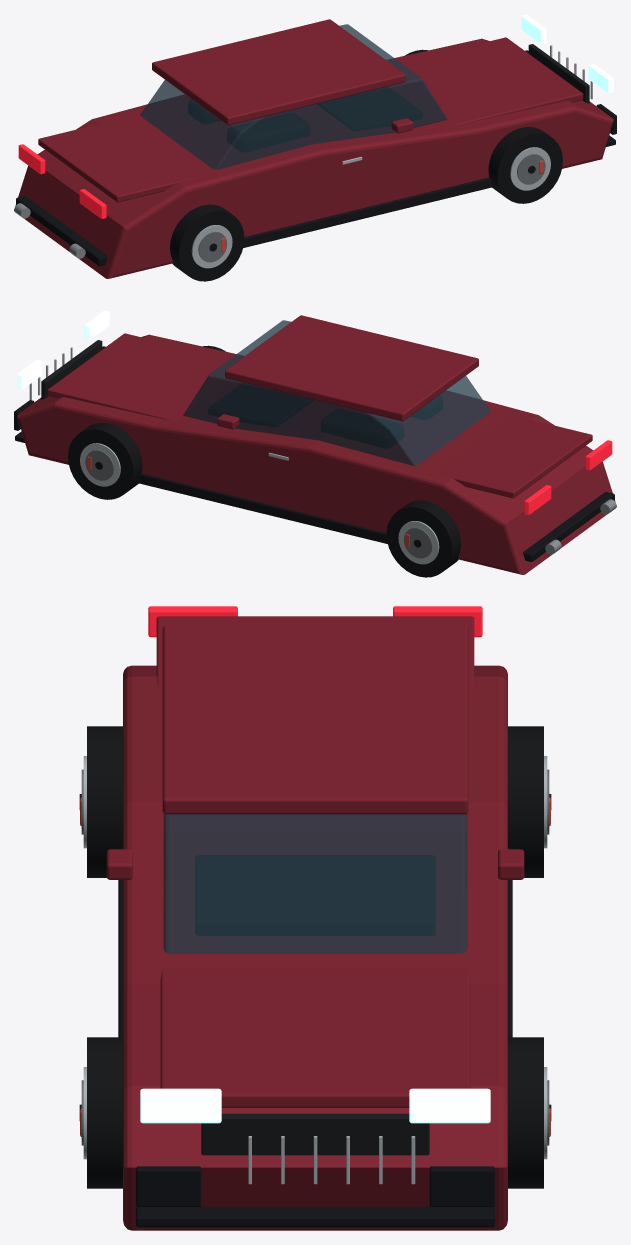
Rendered from rr_phantom_coupe.glb.
3 views of the same model, one above another, from view 1: azimuth 30°, elevation 25°; view 2: azimuth 150°, elevation 25°; view 3: azimuth 270°, elevation 25° (orthographic). The views are drawn at different scales.
Parts seen in each view (by area): view 1: sculpted_body, roof, glasshouse, hood_center, rear_deck, front_right_wheel_tire, rear_right_wheel_tire, side_skirt_1, dashboard, seat_1, rear_diffuser, front_grille (+9 smaller); view 2: sculpted_body, roof, glasshouse, hood_center, rear_deck, front_left_wheel_tire, rear_left_wheel_tire, side_skirt_-1, dashboard, seat_-1, rear_diffuser, front_grille (+9 smaller); view 3: sculpted_body, roof, glasshouse, hood_center, dashboard, front_grille, front_splitter, front_left_wheel_tire, front_right_wheel_tire, rear_left_wheel_tire, rear_right_wheel_tire, rear_deck (+8 smaller).
Boxes of the visible parts, box(x1,y1,x2,y2) form: sculpted_body: box(14, 38, 613, 278); roof: box(152, 19, 405, 125); glasshouse: box(140, 24, 447, 170); hood_center: box(394, 37, 583, 124); rear_deck: box(38, 119, 196, 202); front_right_wheel_tire: box(488, 127, 562, 203); rear_right_wheel_tire: box(170, 204, 244, 281); side_skirt_1: box(243, 177, 493, 247); dashboard: box(317, 87, 422, 130); seat_1: box(227, 113, 309, 151); rear_diffuser: box(16, 195, 107, 265); front_grille: box(528, 44, 589, 103); sculpted_body: box(17, 334, 616, 574); roof: box(225, 315, 478, 421); glasshouse: box(183, 320, 490, 466); hood_center: box(47, 333, 236, 420); rear_deck: box(434, 415, 592, 498); front_left_wheel_tire: box(68, 423, 142, 499); rear_left_wheel_tire: box(386, 500, 460, 577); side_skirt_-1: box(137, 473, 387, 543); dashboard: box(208, 383, 313, 426); seat_-1: box(321, 409, 403, 447); rear_diffuser: box(523, 491, 614, 561); front_grille: box(41, 340, 102, 399); sculpted_body: box(123, 665, 507, 1230); roof: box(162, 625, 468, 814); glasshouse: box(163, 814, 467, 953); hood_center: box(160, 968, 470, 1107); dashboard: box(196, 855, 434, 934); front_grille: box(201, 1113, 429, 1155); front_splitter: box(136, 1206, 494, 1227); front_left_wheel_tire: box(508, 1037, 543, 1188); front_right_wheel_tire: box(87, 1037, 122, 1188); rear_left_wheel_tire: box(508, 726, 543, 877); rear_right_wheel_tire: box(87, 726, 122, 877); rear_deck: box(156, 616, 474, 693).
Size of the model in its own units: 5.99 by 1.51 by 2.3.
